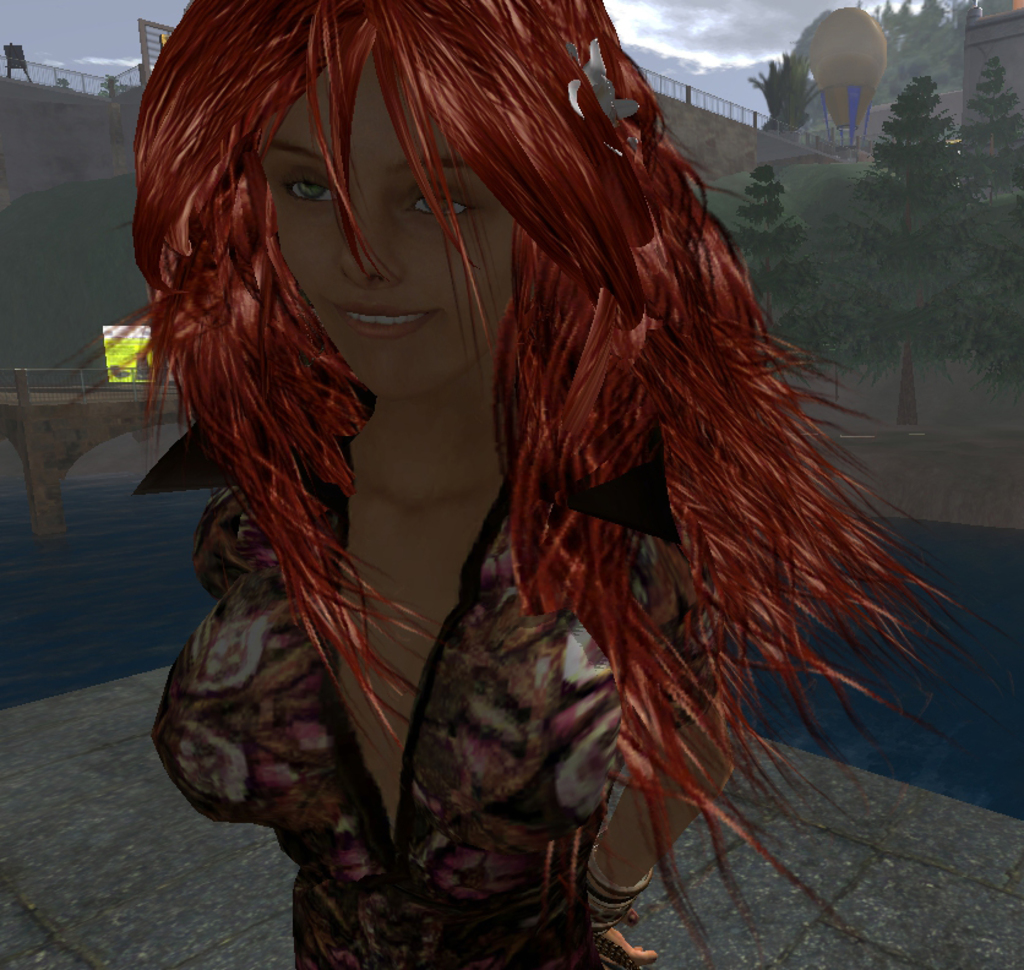face: (251, 14, 532, 406)
